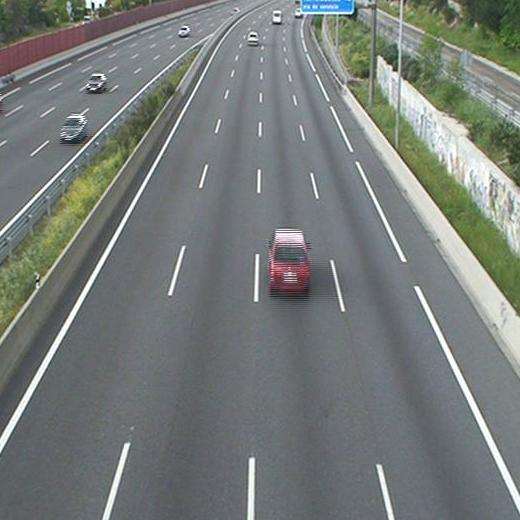car: (269, 227, 310, 298), (247, 31, 258, 45)
